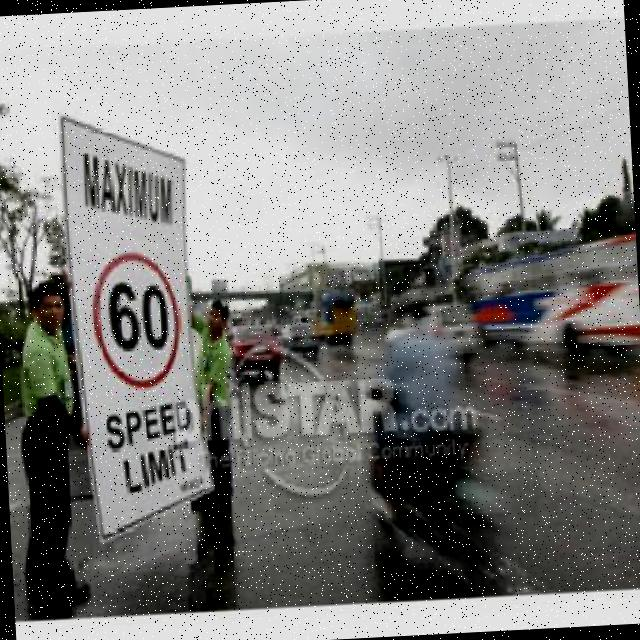Ograniczenie predkosci do 60: (90, 253, 190, 392)
